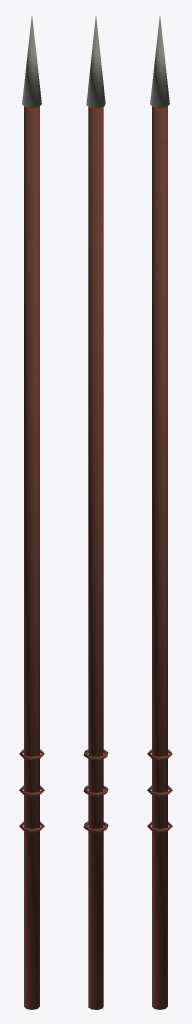
Rendered from javelin.fbx.
3 renders of one model, left to right at view 1: azimuth 90°, elevation 25°; view 2: azimuth 150°, elevation 25°; view 3: azimuth 270°, elevation 25°, orthographic.
Parts seen in each view (by area): view 1: javelin; view 2: javelin; view 3: javelin.
Boxes of the visible parts, <box> form: javelin: <box>19,16,44,1009</box>; javelin: <box>83,16,108,1009</box>; javelin: <box>147,16,172,1009</box>.
Bounding box in the file's own units: 0.026 × 1.1 × 0.026.
2 materials, 1 textured.
